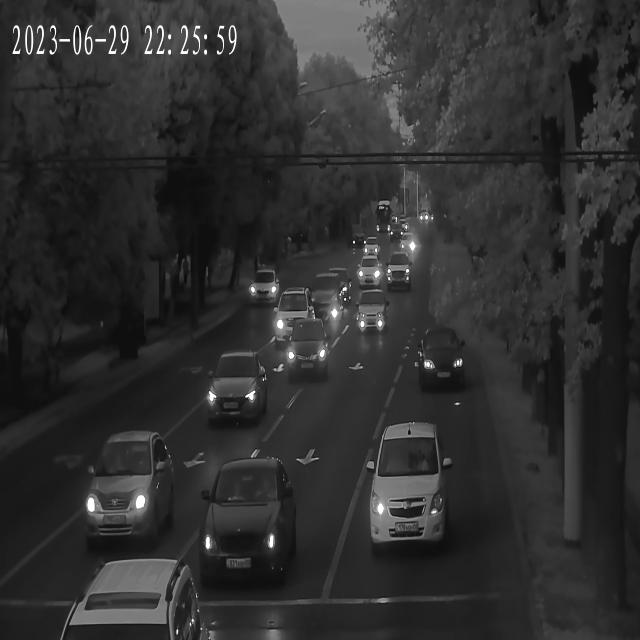Bus: (374, 200, 393, 233)
Car: (203, 457, 300, 585), (56, 555, 208, 631), (82, 432, 178, 550), (368, 424, 452, 550), (197, 351, 268, 426), (413, 326, 464, 389), (281, 318, 331, 382), (272, 290, 318, 342), (309, 271, 342, 330), (354, 296, 389, 341), (250, 270, 282, 308), (384, 254, 414, 293), (324, 267, 352, 306), (356, 260, 381, 285), (349, 223, 366, 248), (397, 237, 419, 254), (362, 240, 380, 258), (390, 223, 403, 240), (399, 220, 409, 231)
